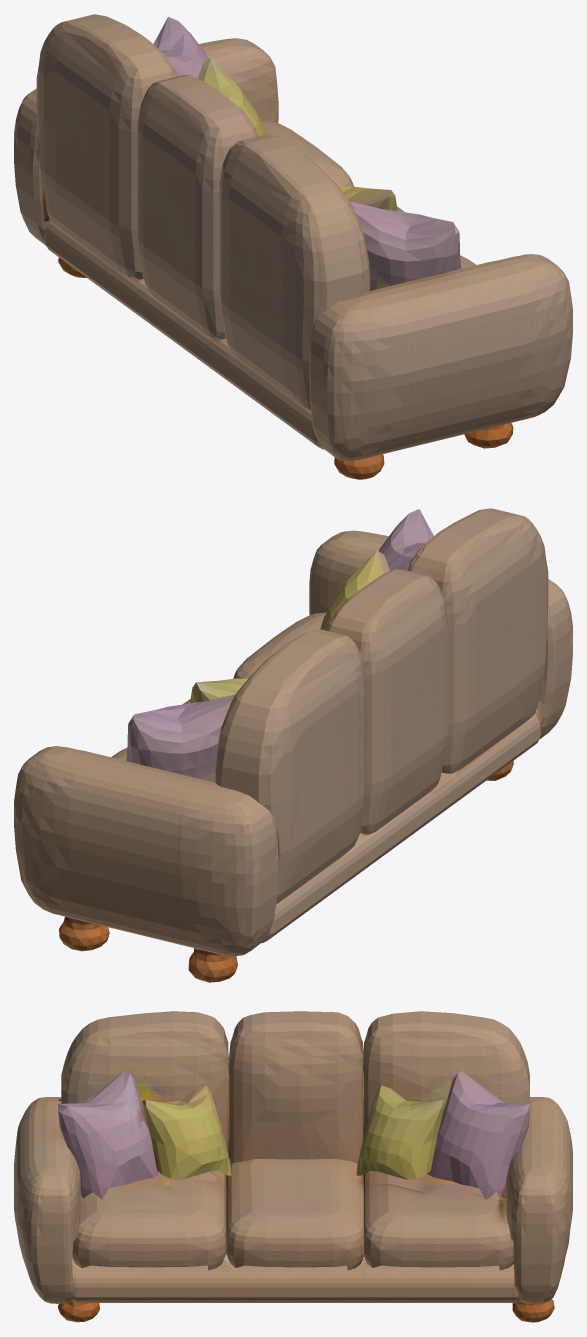
Rendered from sofa3.glb.
3 views of the same model, one above another, from view 1: azimuth 30°, elevation 25°; view 2: azimuth 150°, elevation 25°; view 3: azimuth 270°, elevation 25° (orthographic). The views are drawn at different scales.
Parts seen in each view (by area): view 1: tripo_node_f59e5ec1-4a9b-404c-8db7-5744794fd311; view 2: tripo_node_f59e5ec1-4a9b-404c-8db7-5744794fd311; view 3: tripo_node_f59e5ec1-4a9b-404c-8db7-5744794fd311.
Boxes of the visible parts, x1,y1,x2,y2 form: tripo_node_f59e5ec1-4a9b-404c-8db7-5744794fd311: (14,14,572,479); tripo_node_f59e5ec1-4a9b-404c-8db7-5744794fd311: (14,508,572,982); tripo_node_f59e5ec1-4a9b-404c-8db7-5744794fd311: (14,1011,572,1322).
Size of the model in its own units: 0.399 by 0.4503 by 0.9499.
1 material, 1 textured.
